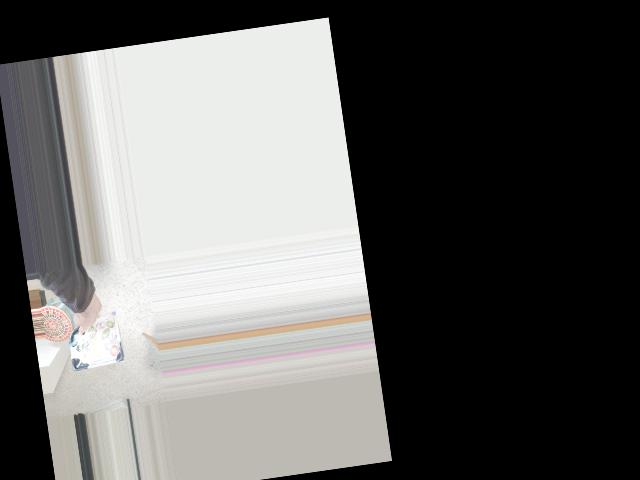cheese: (56, 294, 131, 369)
